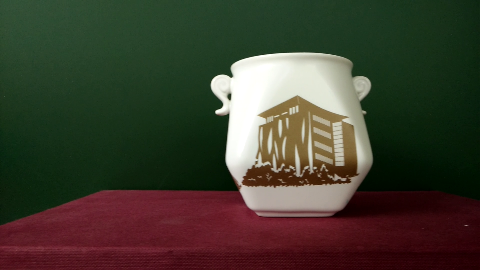library: (254, 98, 349, 182)
